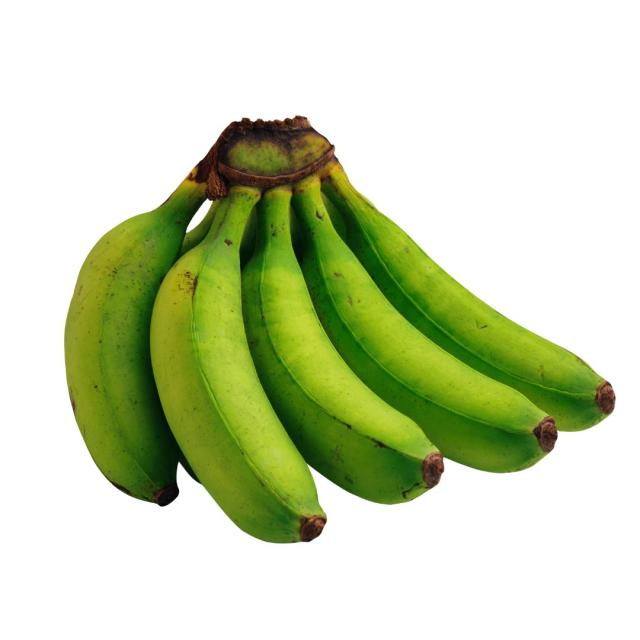Pisang: (61, 117, 618, 548)
